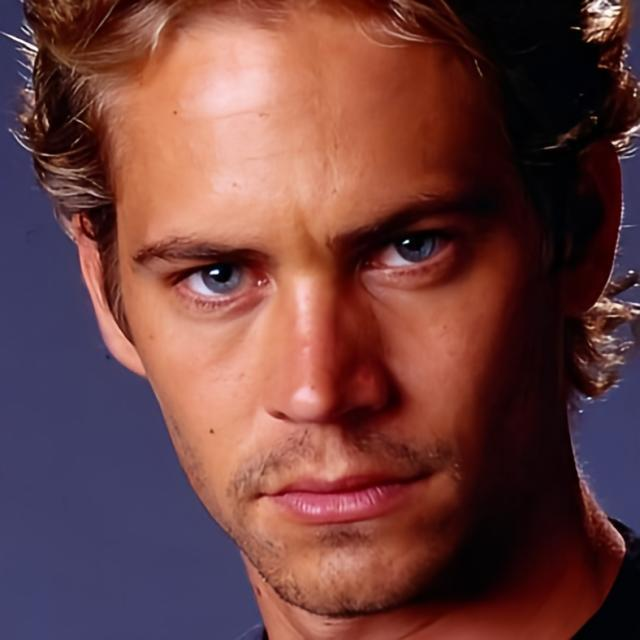anger: (137, 58, 540, 619)
